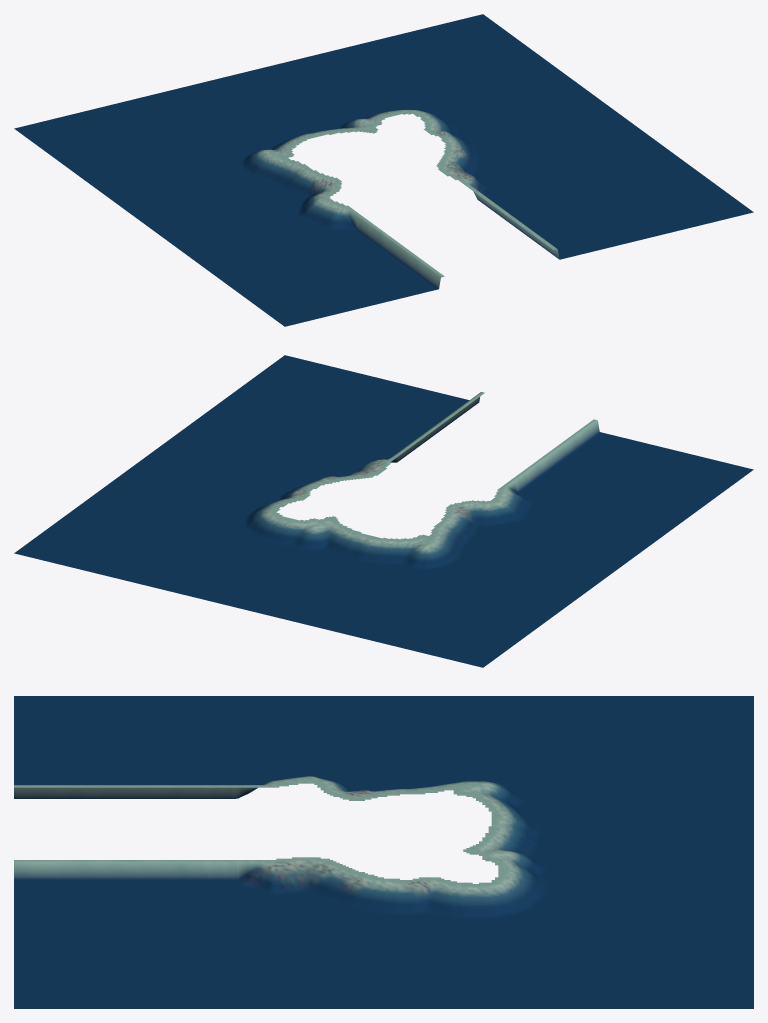
File: ISL_Seabed.fbx
3 views of the same model, one above another, from view 1: azimuth 30°, elevation 25°; view 2: azimuth 150°, elevation 25°; view 3: azimuth 270°, elevation 25° (orthographic). The views are drawn at different scales.
Visible parts, largest first — view 1: ISL_Seabed.001; view 2: ISL_Seabed.001; view 3: ISL_Seabed.001.
Boxes of the visible parts, x1,y1,x2,y2 form: ISL_Seabed.001: [14, 14, 753, 326]; ISL_Seabed.001: [14, 355, 753, 667]; ISL_Seabed.001: [14, 696, 753, 1008].
Size of the model in its own units: 700 by 16 by 700.
